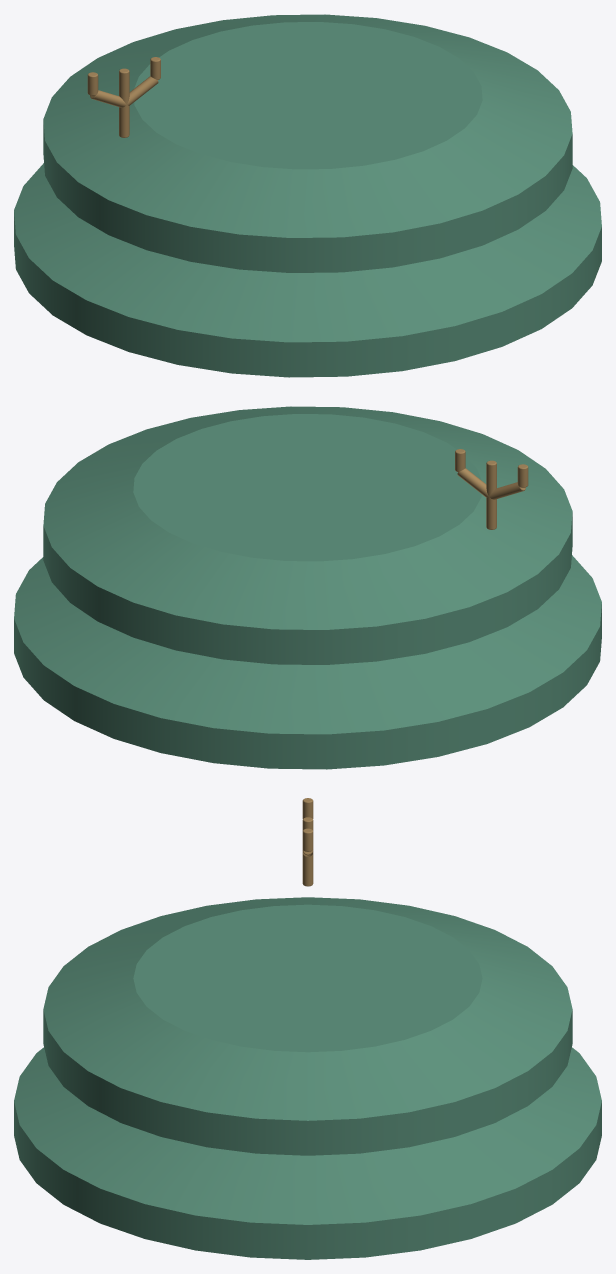
3 renders of one model, top to bottom at view 1: azimuth 30°, elevation 25°; view 2: azimuth 150°, elevation 25°; view 3: azimuth 270°, elevation 25°, orthographic.
Parts seen in each view (by area): view 1: Terraced oval hull.001, Terraced oval hull, Aerial stem; view 2: Terraced oval hull.001, Terraced oval hull, Aerial stem; view 3: Terraced oval hull.001, Terraced oval hull.
Boxes of the visible parts, x1,y1,x2,y2 form: Terraced oval hull.001: (43,14,572,272); Terraced oval hull: (14,163,601,377); Aerial stem: (119,68,129,137); Terraced oval hull.001: (43,406,572,664); Terraced oval hull: (14,555,601,769); Aerial stem: (486,460,496,529); Terraced oval hull.001: (43,897,572,1155); Terraced oval hull: (14,1047,601,1259).
Bounding box in the file's own units: 2.44 × 1.16 × 2.44.
